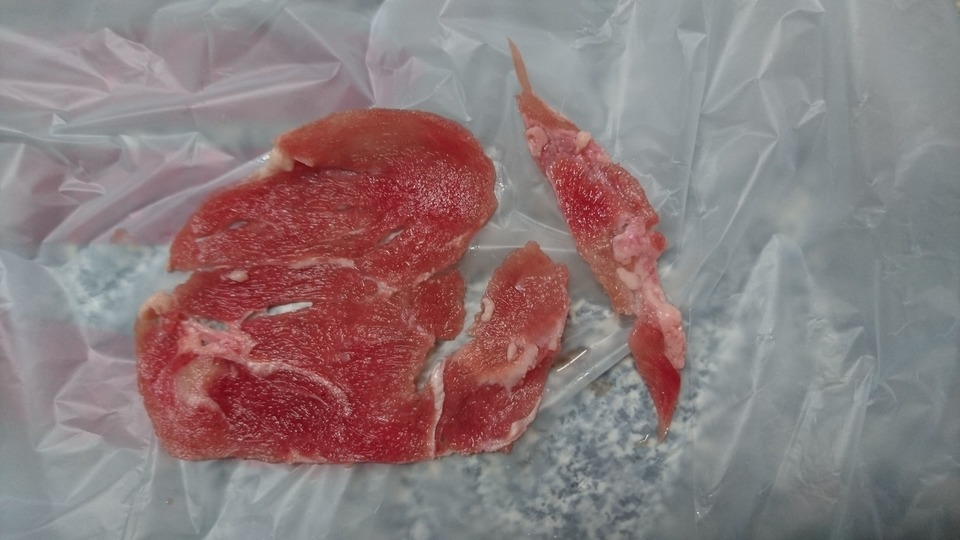restructured meat: (125, 115, 696, 473)
